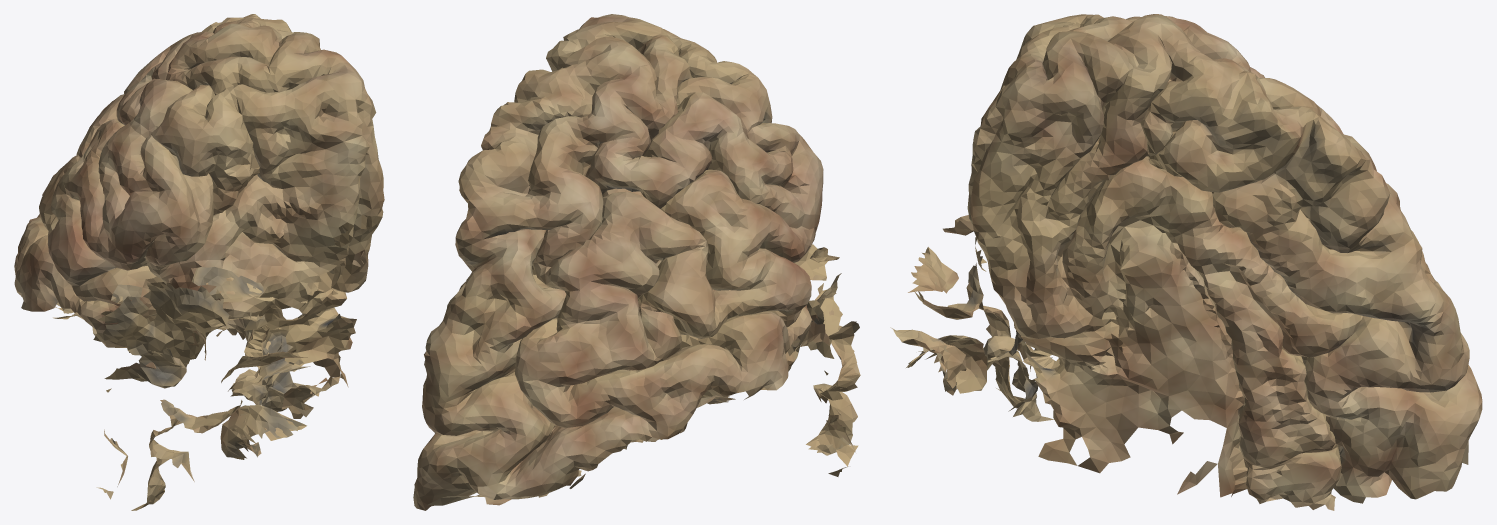
Rendered from R_Frontal_Lobe.obj.
3 views of the same model, side by side, from view 1: azimuth 30°, elevation 25°; view 2: azimuth 150°, elevation 25°; view 3: azimuth 270°, elevation 25° (orthographic). The views are drawn at different scales.
Parts seen in each view (by area): view 1: R_Frontal_Lobe_R_Cortex_final.004; view 2: R_Frontal_Lobe_R_Cortex_final.004; view 3: R_Frontal_Lobe_R_Cortex_final.004.
Part boxes in pixels (left/top/right/bottom): R_Frontal_Lobe_R_Cortex_final.004: left=14, top=14, right=384, bottom=510; R_Frontal_Lobe_R_Cortex_final.004: left=413, top=14, right=860, bottom=510; R_Frontal_Lobe_R_Cortex_final.004: left=890, top=14, right=1482, bottom=510.
Bounding box in the file's own units: 261 × 373 × 423.
